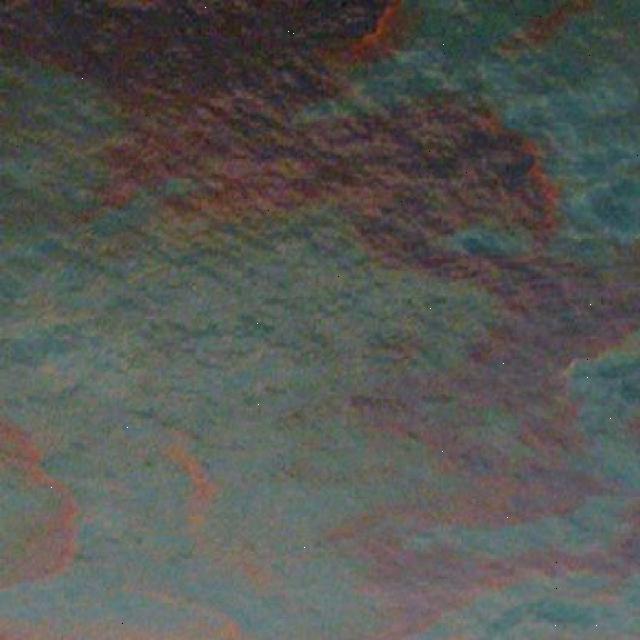truecolor: (0, 0, 560, 285), (323, 296, 625, 640)
